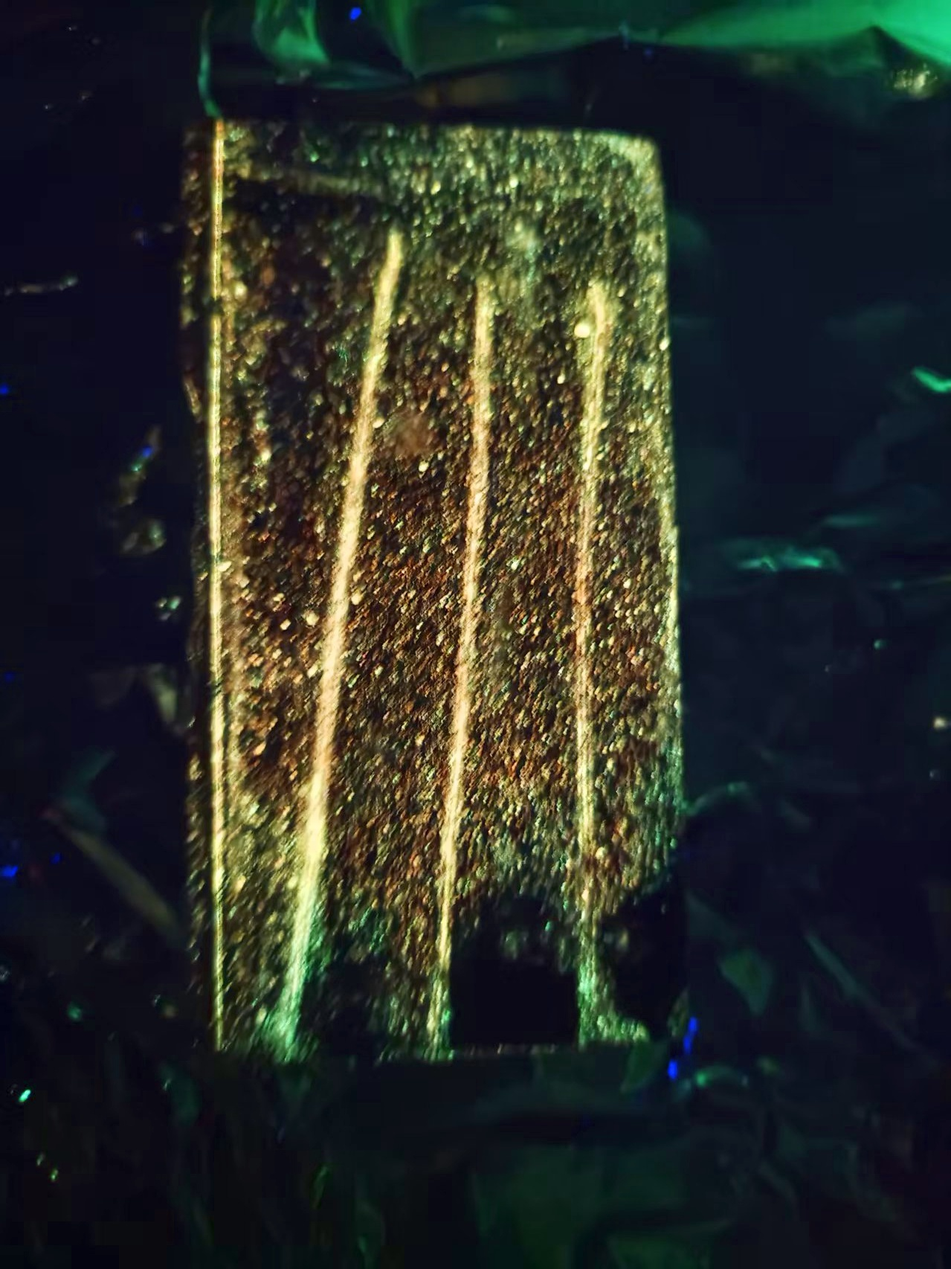Fissure: (259, 231, 417, 1055), (413, 254, 519, 1065), (565, 270, 623, 1053)
